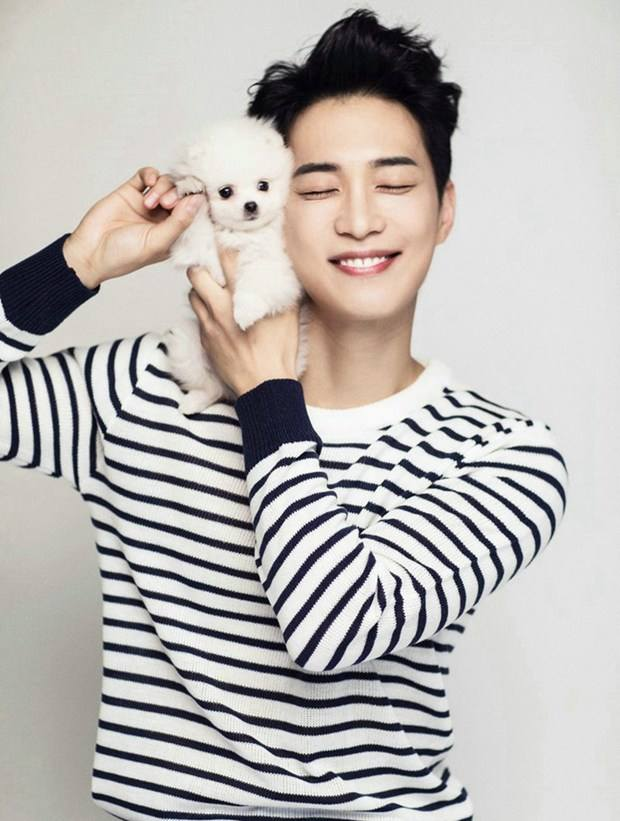person: (119, 41, 545, 655)
